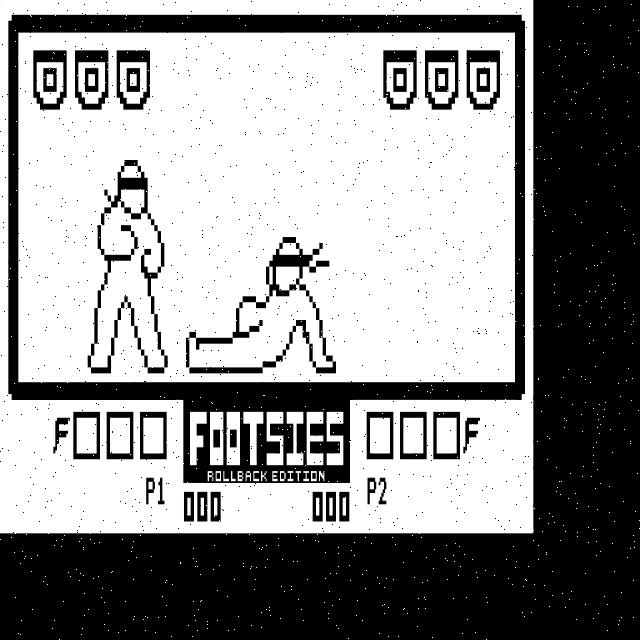Idle: (74, 148, 177, 378)
Kick: (184, 228, 336, 375)
